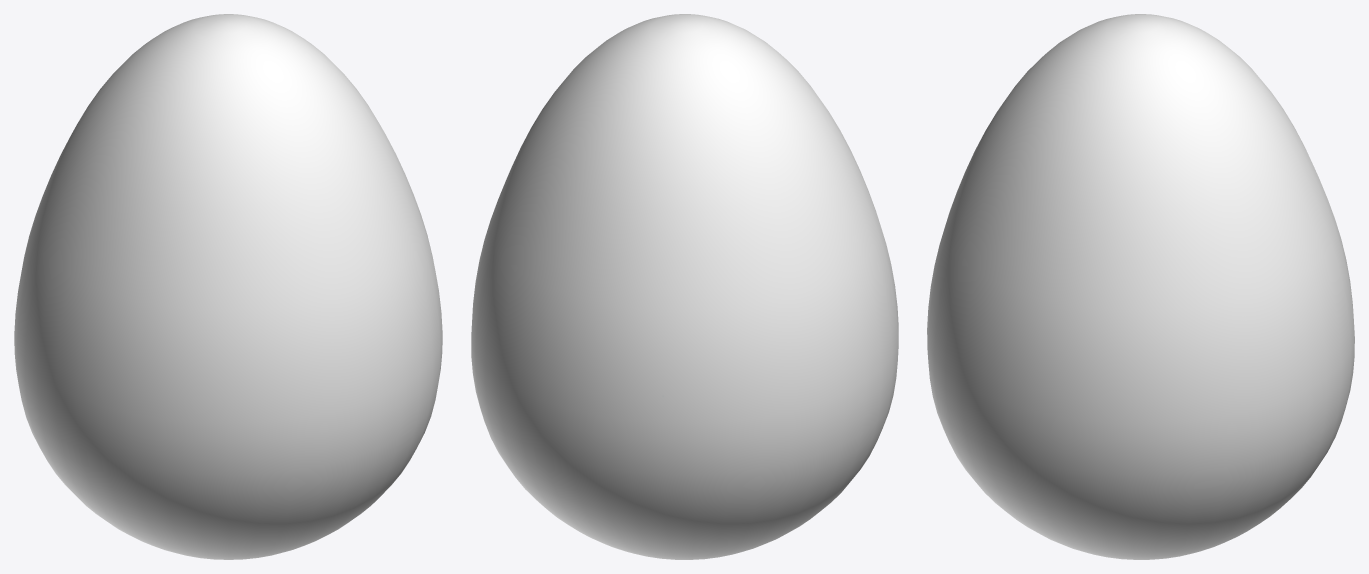
Rendered from egg_white.glb.
3 renders of one model, left to right at view 1: azimuth 30°, elevation 25°; view 2: azimuth 150°, elevation 25°; view 3: azimuth 270°, elevation 25°, orthographic.
Parts seen in each view (by area): view 1: node_id264; view 2: node_id264; view 3: node_id264.
Part boxes in pixels (x1,y1,x2,y2): node_id264: (14, 14, 442, 559); node_id264: (471, 14, 898, 559); node_id264: (927, 14, 1354, 559).
Size of the model in its own units: 0.2929 by 0.3906 by 0.2929.
Materials: 1 (1 with a texture image).
